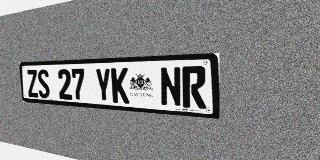2: (57, 69, 72, 100)
7: (70, 69, 86, 101)
K: (111, 68, 129, 104)
N: (159, 66, 182, 107)
R: (182, 66, 206, 109)
S: (37, 69, 50, 98)
Y: (95, 68, 112, 103)
Z: (26, 70, 39, 98)
